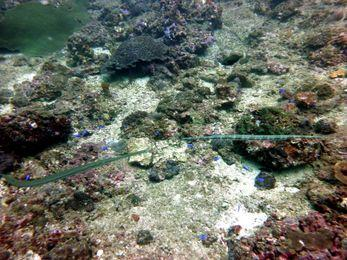Fistularia commersonii: (0, 143, 168, 192), (161, 116, 347, 149)
